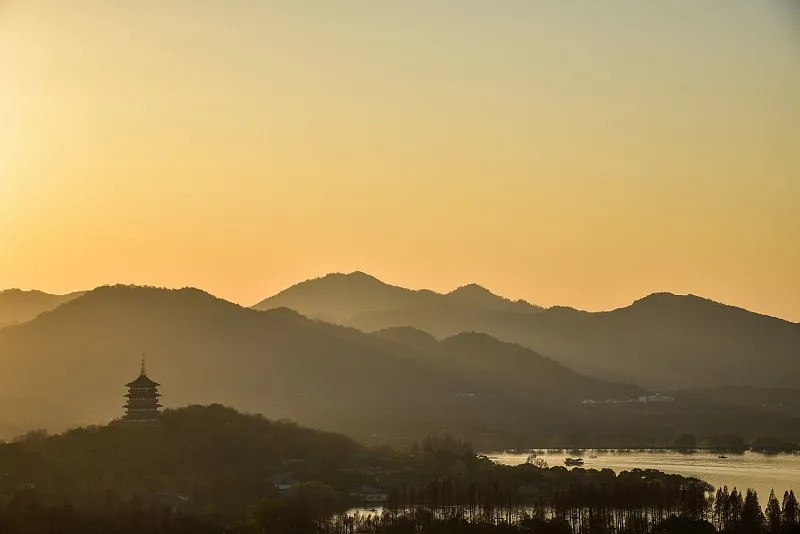Leifeng: (122, 353, 165, 429)
